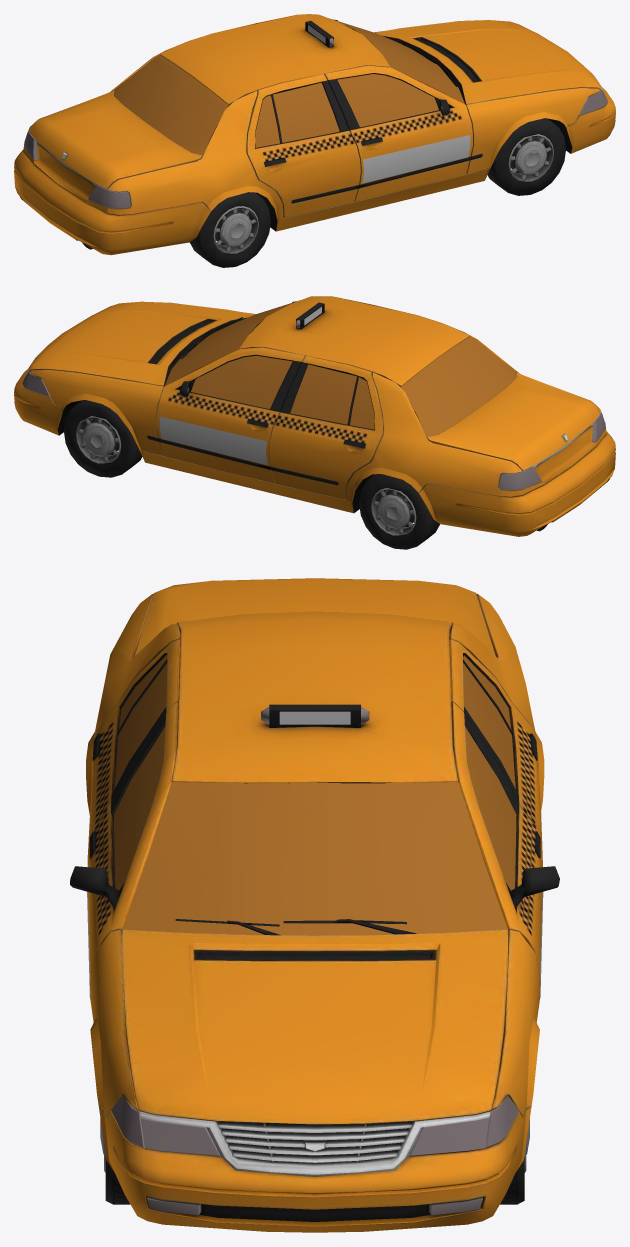
Rendered from civ-taxi.lod0.glb.
3 views of the same model, one above another, from view 1: azimuth 30°, elevation 25°; view 2: azimuth 150°, elevation 25°; view 3: azimuth 270°, elevation 25° (orthographic). The views are drawn at different scales.
Parts seen in each view (by area): view 1: taxi_taxi_0, taxi_taxi_glass_0; view 2: taxi_taxi_0, taxi_taxi_glass_0; view 3: taxi_taxi_0, taxi_taxi_glass_0.
Boxes of the visible parts, x1=… form: taxi_taxi_0: x1=14, y1=14, x2=615, y2=267; taxi_taxi_glass_0: x1=24, y1=19, x2=607, y2=208; taxi_taxi_0: x1=14, y1=296, x2=615, y2=549; taxi_taxi_glass_0: x1=22, y1=300, x2=605, y2=490; taxi_taxi_0: x1=70, y1=578, x2=559, y2=1232; taxi_taxi_glass_0: x1=87, y1=655, x2=543, y2=1215.
Bounding box in the file's own units: 5.09 × 1.5 × 2.
Materials: 2 (1 with a texture image).
